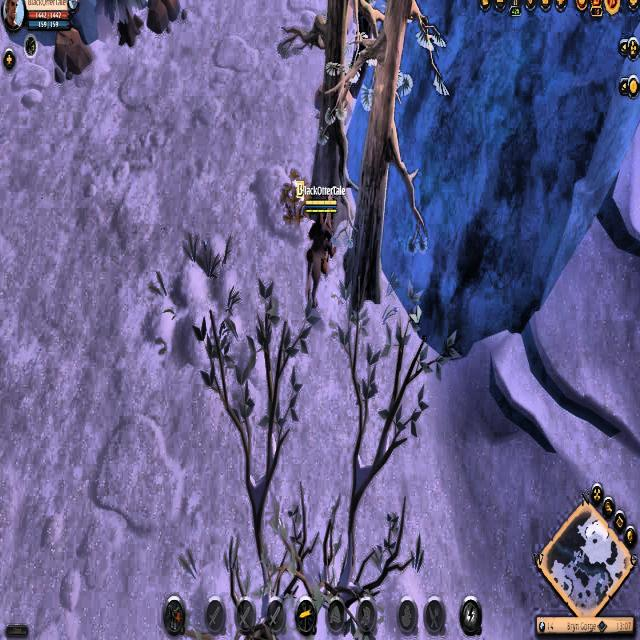limestone: (53, 18, 90, 80), (144, 0, 184, 31)
